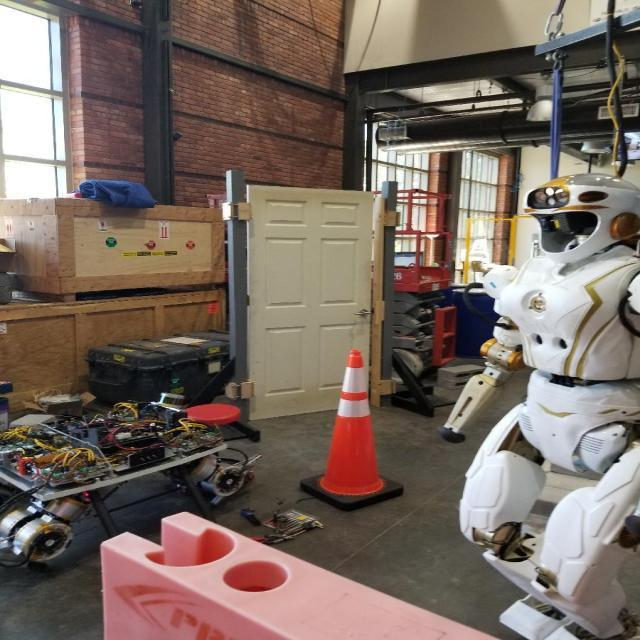door: (242, 182, 376, 430), (350, 306, 372, 321)
